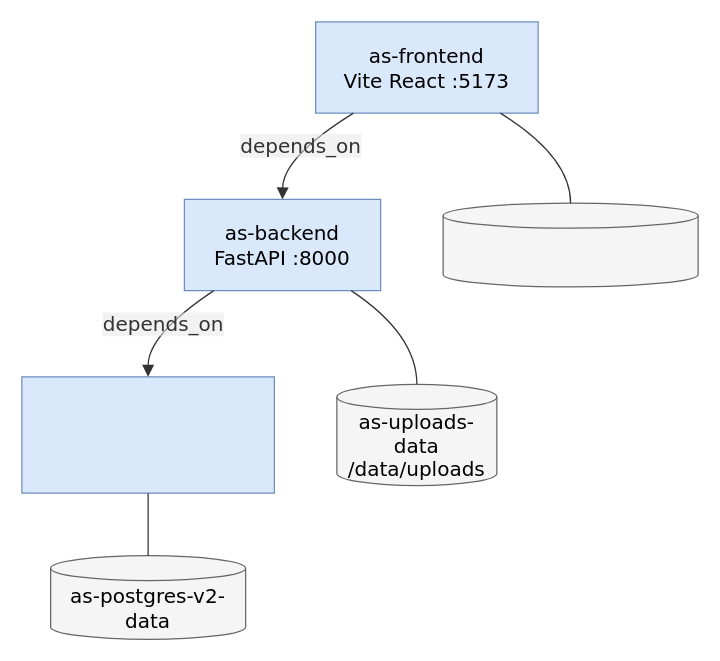
The diagram is 720 pixels wide and 661 high, and some of its shapes have lost their labels. Each missing label, with the box of its shape:
as-frontend-node-modules: (442, 202, 698, 287)
as-postgres-V2 postgres:18-alpine host 127.0.0.1:5433: (21, 376, 274, 493)
